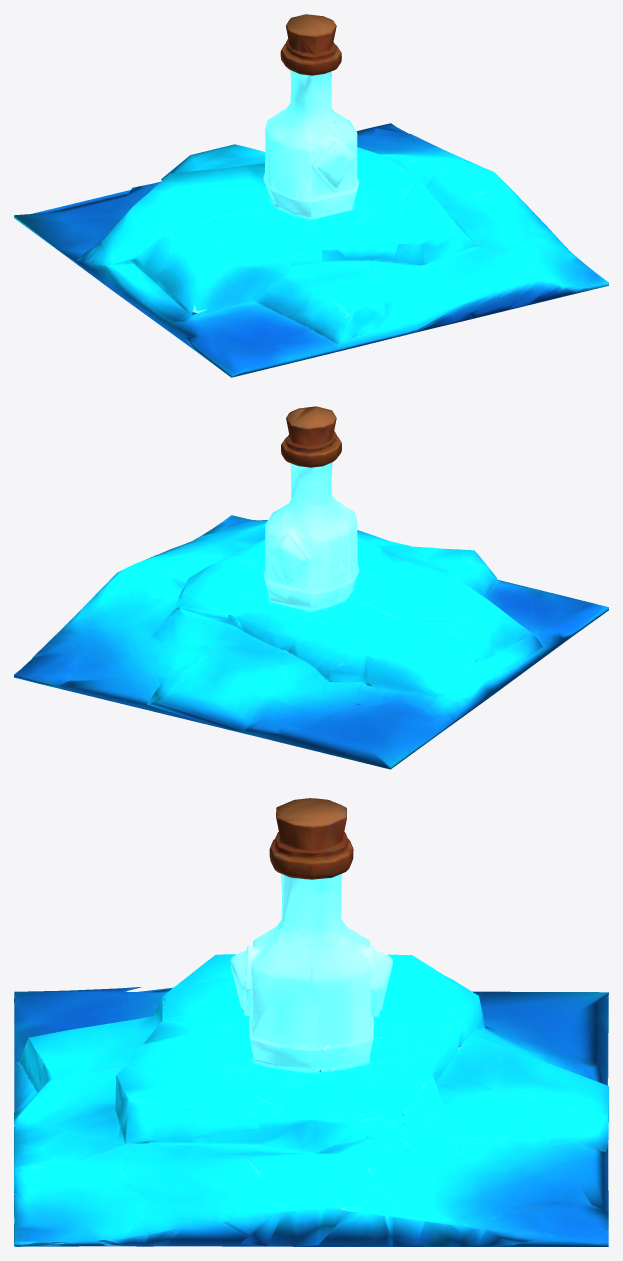
The model's file is item_shield_s.glb.
3 views of the same model, one above another, from view 1: azimuth 30°, elevation 25°; view 2: azimuth 150°, elevation 25°; view 3: azimuth 270°, elevation 25° (orthographic). The views are drawn at different scales.
Size of the model in its own units: 1.91 by 1.16 by 1.91.
1 material, 1 textured.
